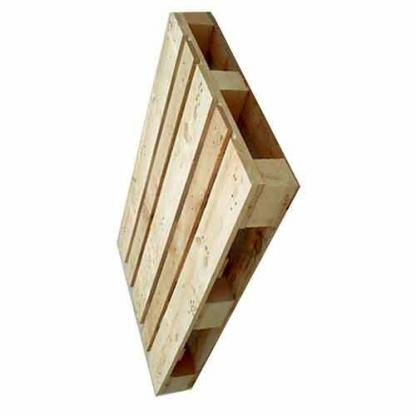BoxFace: (111, 8, 304, 401)
